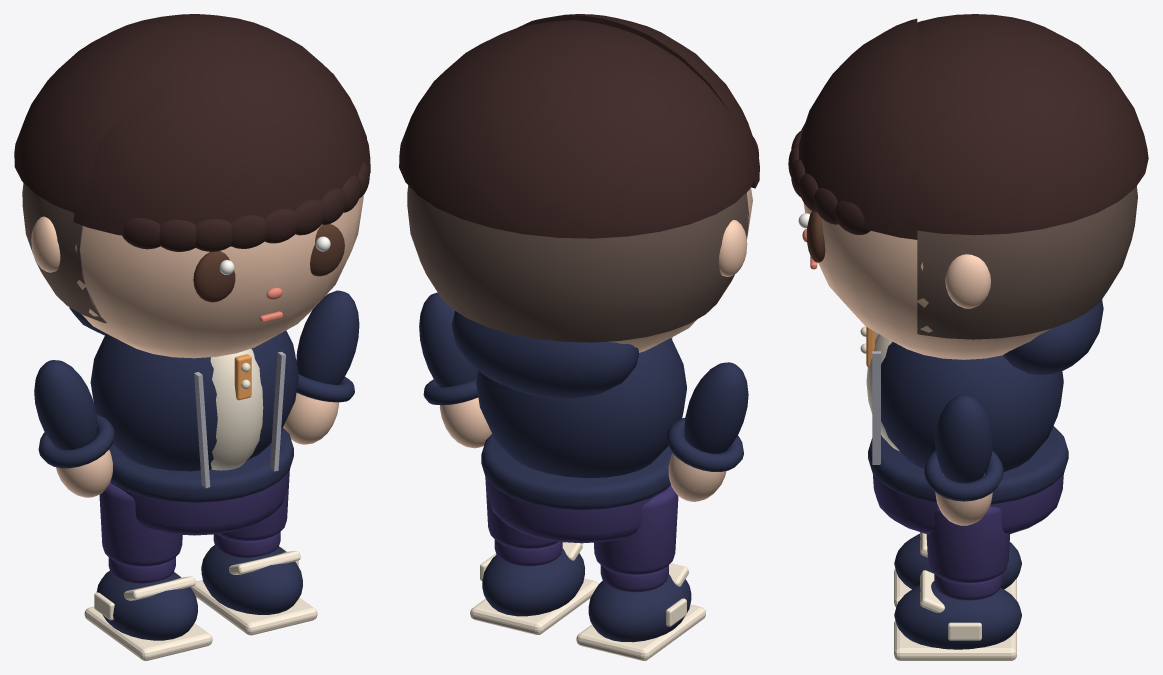
The model's file is char_yu.glb.
3 renders of one model, left to right at view 1: azimuth 30°, elevation 25°; view 2: azimuth 150°, elevation 25°; view 3: azimuth 270°, elevation 25°, orthographic.
Parts seen in each view (by area): view 1: yu_hair_bangs, yu_head, yu_hair_bowl, yu_body, yu_hoodie_hem, yu_hips, yu_leg_R, yu_sleeve_R, yu_henley, yu_leg_L, yu_sleeve_L, yu_trouser_L (+25 smaller); view 2: yu_hair_bowl, yu_hair_fade, yu_body, yu_hood, yu_hoodie_hem, yu_hips, yu_leg_R, yu_leg_L, yu_sleeve_L, yu_trouser_L, yu_hair_bangs, yu_sleeve_R (+11 smaller); view 3: yu_hair_bowl, yu_hair_fade, yu_hair_bangs, yu_body, yu_head, yu_leg_R, yu_hoodie_hem, yu_trouser_R, yu_sleeve_R, yu_hips, yu_hood, yu_sole_R (+12 smaller).
Part boxes in pixels (x1=…): yu_hair_bangs: x1=73, y1=50, x2=370, y2=235; yu_head: x1=75, y1=195, x2=363, y2=358; yu_hair_bowl: x1=14, y1=14, x2=366, y2=215; yu_body: x1=90, y1=330, x2=298, y2=471; yu_hoodie_hem: x1=109, y1=428, x2=293, y2=502; yu_hips: x1=110, y1=471, x2=289, y2=535; yu_leg_R: x1=201, y1=545, x2=302, y2=614; yu_sleeve_R: x1=296, y1=290, x2=359, y2=384; yu_henley: x1=210, y1=349, x2=263, y2=470; yu_leg_L: x1=96, y1=570, x2=197, y2=640; yu_sleeve_L: x1=34, y1=360, x2=97, y2=449; yu_trouser_L: x1=99, y1=482, x2=182, y2=566; yu_hair_bowl: x1=399, y1=20, x2=756, y2=238; yu_hair_fade: x1=407, y1=185, x2=749, y2=342; yu_body: x1=476, y1=338, x2=686, y2=478; yu_hood: x1=452, y1=311, x2=639, y2=398; yu_hoodie_hem: x1=481, y1=434, x2=672, y2=510; yu_hips: x1=486, y1=478, x2=670, y2=543; yu_leg_R: x1=482, y1=548, x2=584, y2=616; yu_leg_L: x1=588, y1=574, x2=691, y2=642; yu_sleeve_L: x1=684, y1=362, x2=748, y2=453; yu_trouser_L: x1=594, y1=485, x2=678, y2=574; yu_hair_bangs: x1=517, y1=14, x2=759, y2=188; yu_sleeve_R: x1=419, y1=292, x2=478, y2=387; yu_hair_bowl: x1=903, y1=14, x2=1148, y2=235; yu_hair_fade: x1=917, y1=186, x2=1137, y2=339; yu_hair_bangs: x1=798, y1=18, x2=917, y2=239; yu_body: x1=881, y1=342, x2=1063, y2=471; yu_head: x1=803, y1=203, x2=1050, y2=359; yu_leg_R: x1=894, y1=581, x2=1021, y2=649; yu_hoodie_hem: x1=868, y1=426, x2=1068, y2=504; yu_trouser_R: x1=926, y1=506, x2=1010, y2=583; yu_sleeve_R: x1=935, y1=395, x2=992, y2=482; yu_hips: x1=873, y1=474, x2=1063, y2=534; yu_hood: x1=1003, y1=299, x2=1103, y2=374; yu_sole_R: x1=894, y1=620, x2=1016, y2=660.
Bounding box in the file's own units: 0.4374 × 0.7656 × 0.4244.
Materials: 1 (1 with a texture image).
